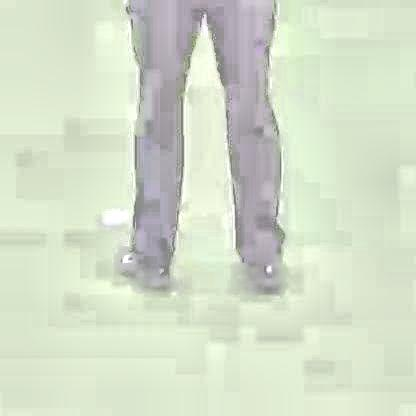golfball: (98, 206, 121, 226)
